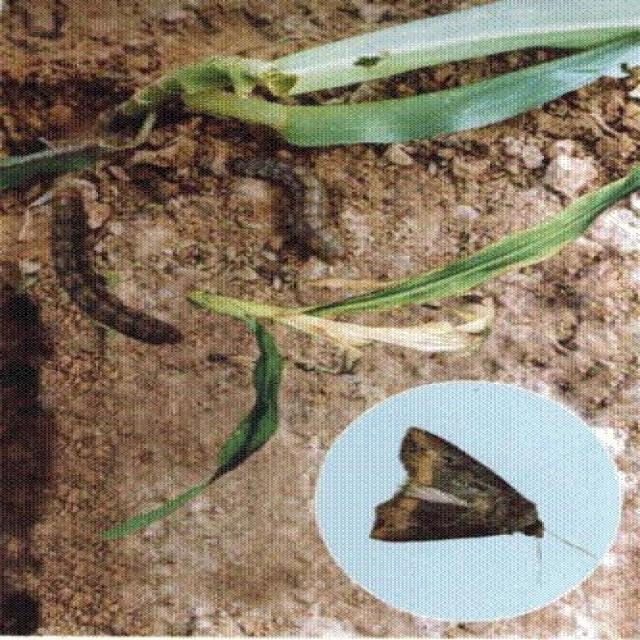black cutworm: (360, 426, 558, 567), (58, 188, 194, 358), (215, 152, 361, 272)
